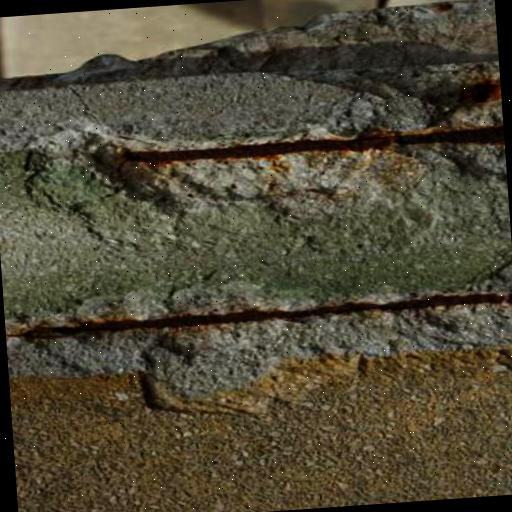spalling: (11, 250, 512, 426), (18, 86, 504, 242)
